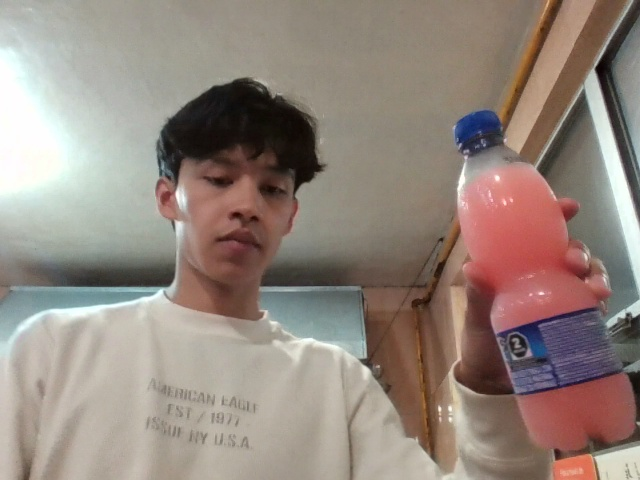botella: (419, 72, 638, 467)
